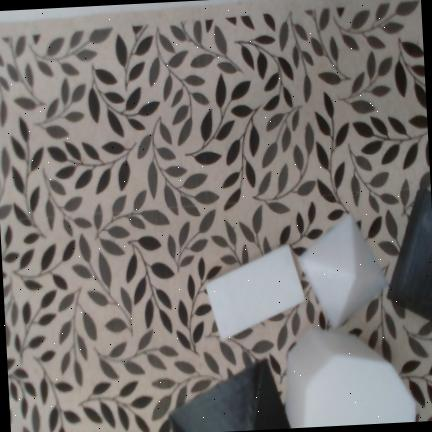Paralelepipedo: (205, 244, 306, 339), (386, 189, 432, 320)
Piramide: (297, 211, 388, 330), (169, 358, 289, 432)
Prisma_hexagonal: (284, 328, 416, 428)
